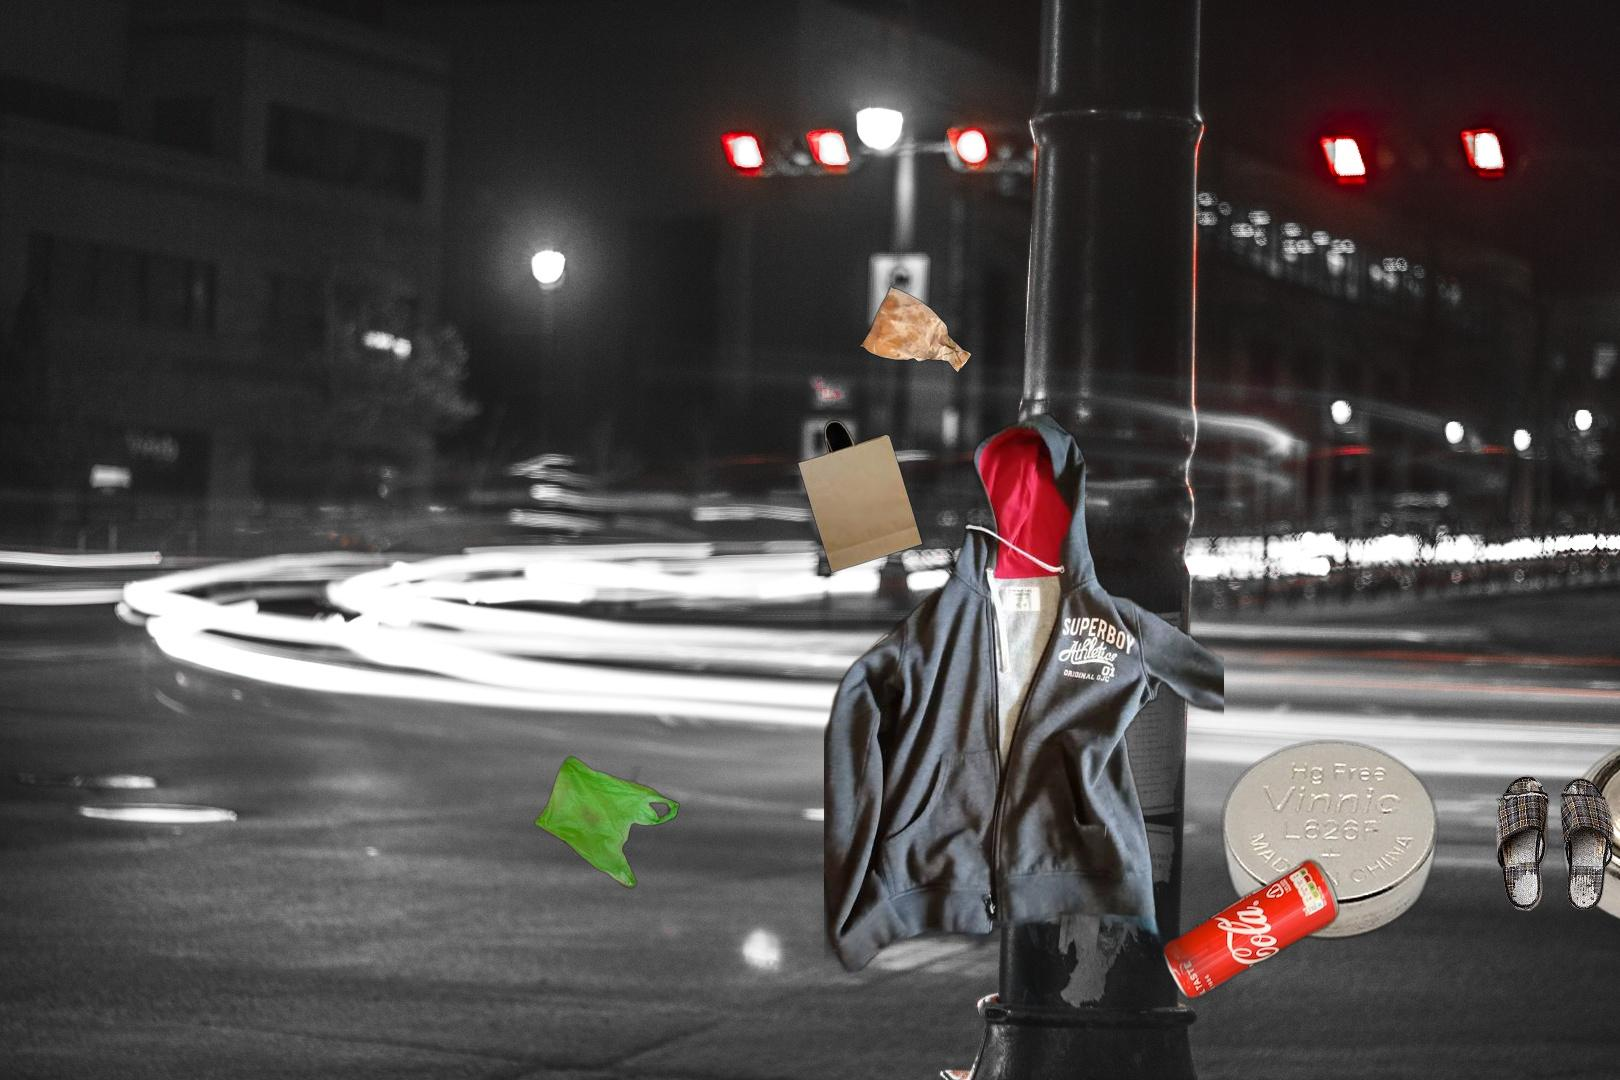battery: (1215, 732, 1620, 946)
biological: (793, 1072, 1047, 1080)
clothes: (824, 407, 1223, 1068)
metal-cans: (950, 855, 1344, 1080)
paper-bag: (796, 284, 975, 576)
plastic-bag: (532, 755, 683, 891)
shoes: (1493, 773, 1618, 915)
